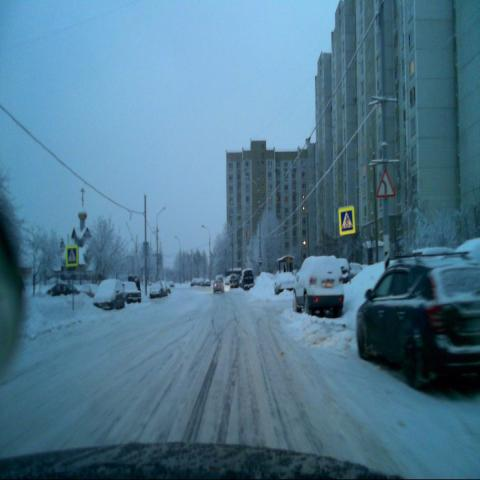1_11_1: (374, 168, 396, 198)
